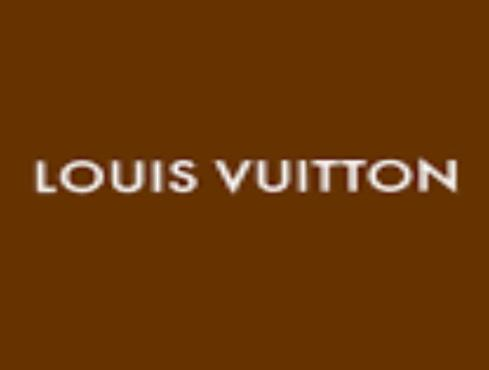LOUIS-VUITTON: (20, 152, 465, 205)
